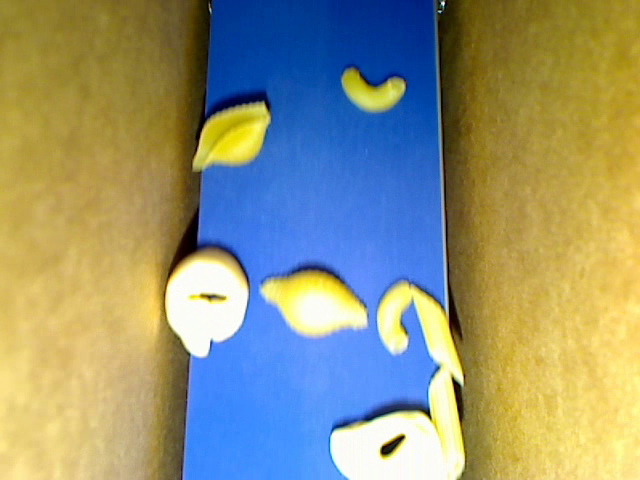elbow: (339, 67, 406, 114), (375, 278, 413, 356)
penne: (409, 284, 465, 386), (426, 363, 466, 479)
shell: (258, 268, 368, 337), (192, 101, 271, 170)
tortellini: (164, 248, 249, 358), (330, 410, 445, 479)
